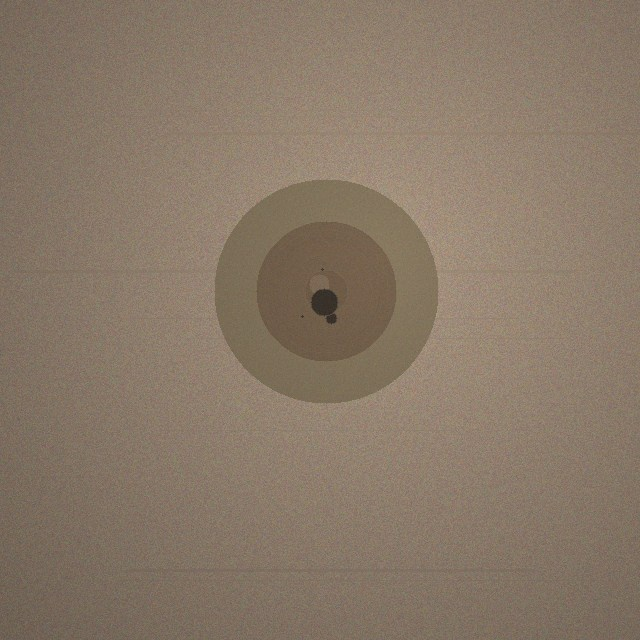shrinkage: (214, 179, 438, 403)
